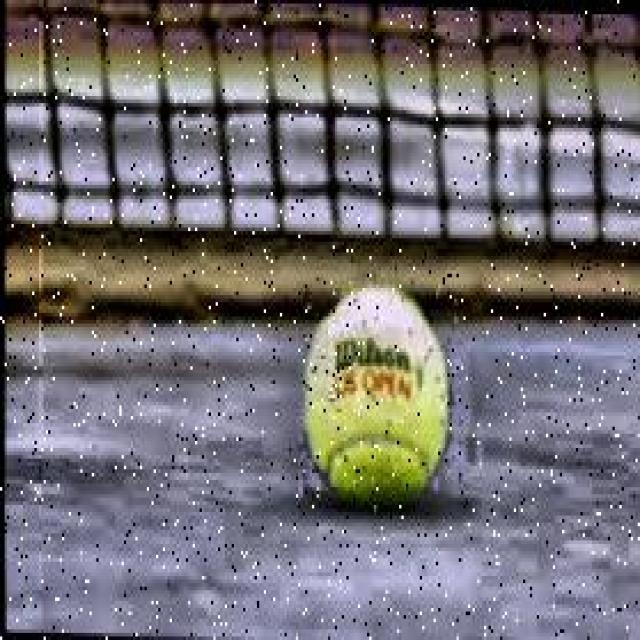tennis-ball: (300, 272, 466, 517)
